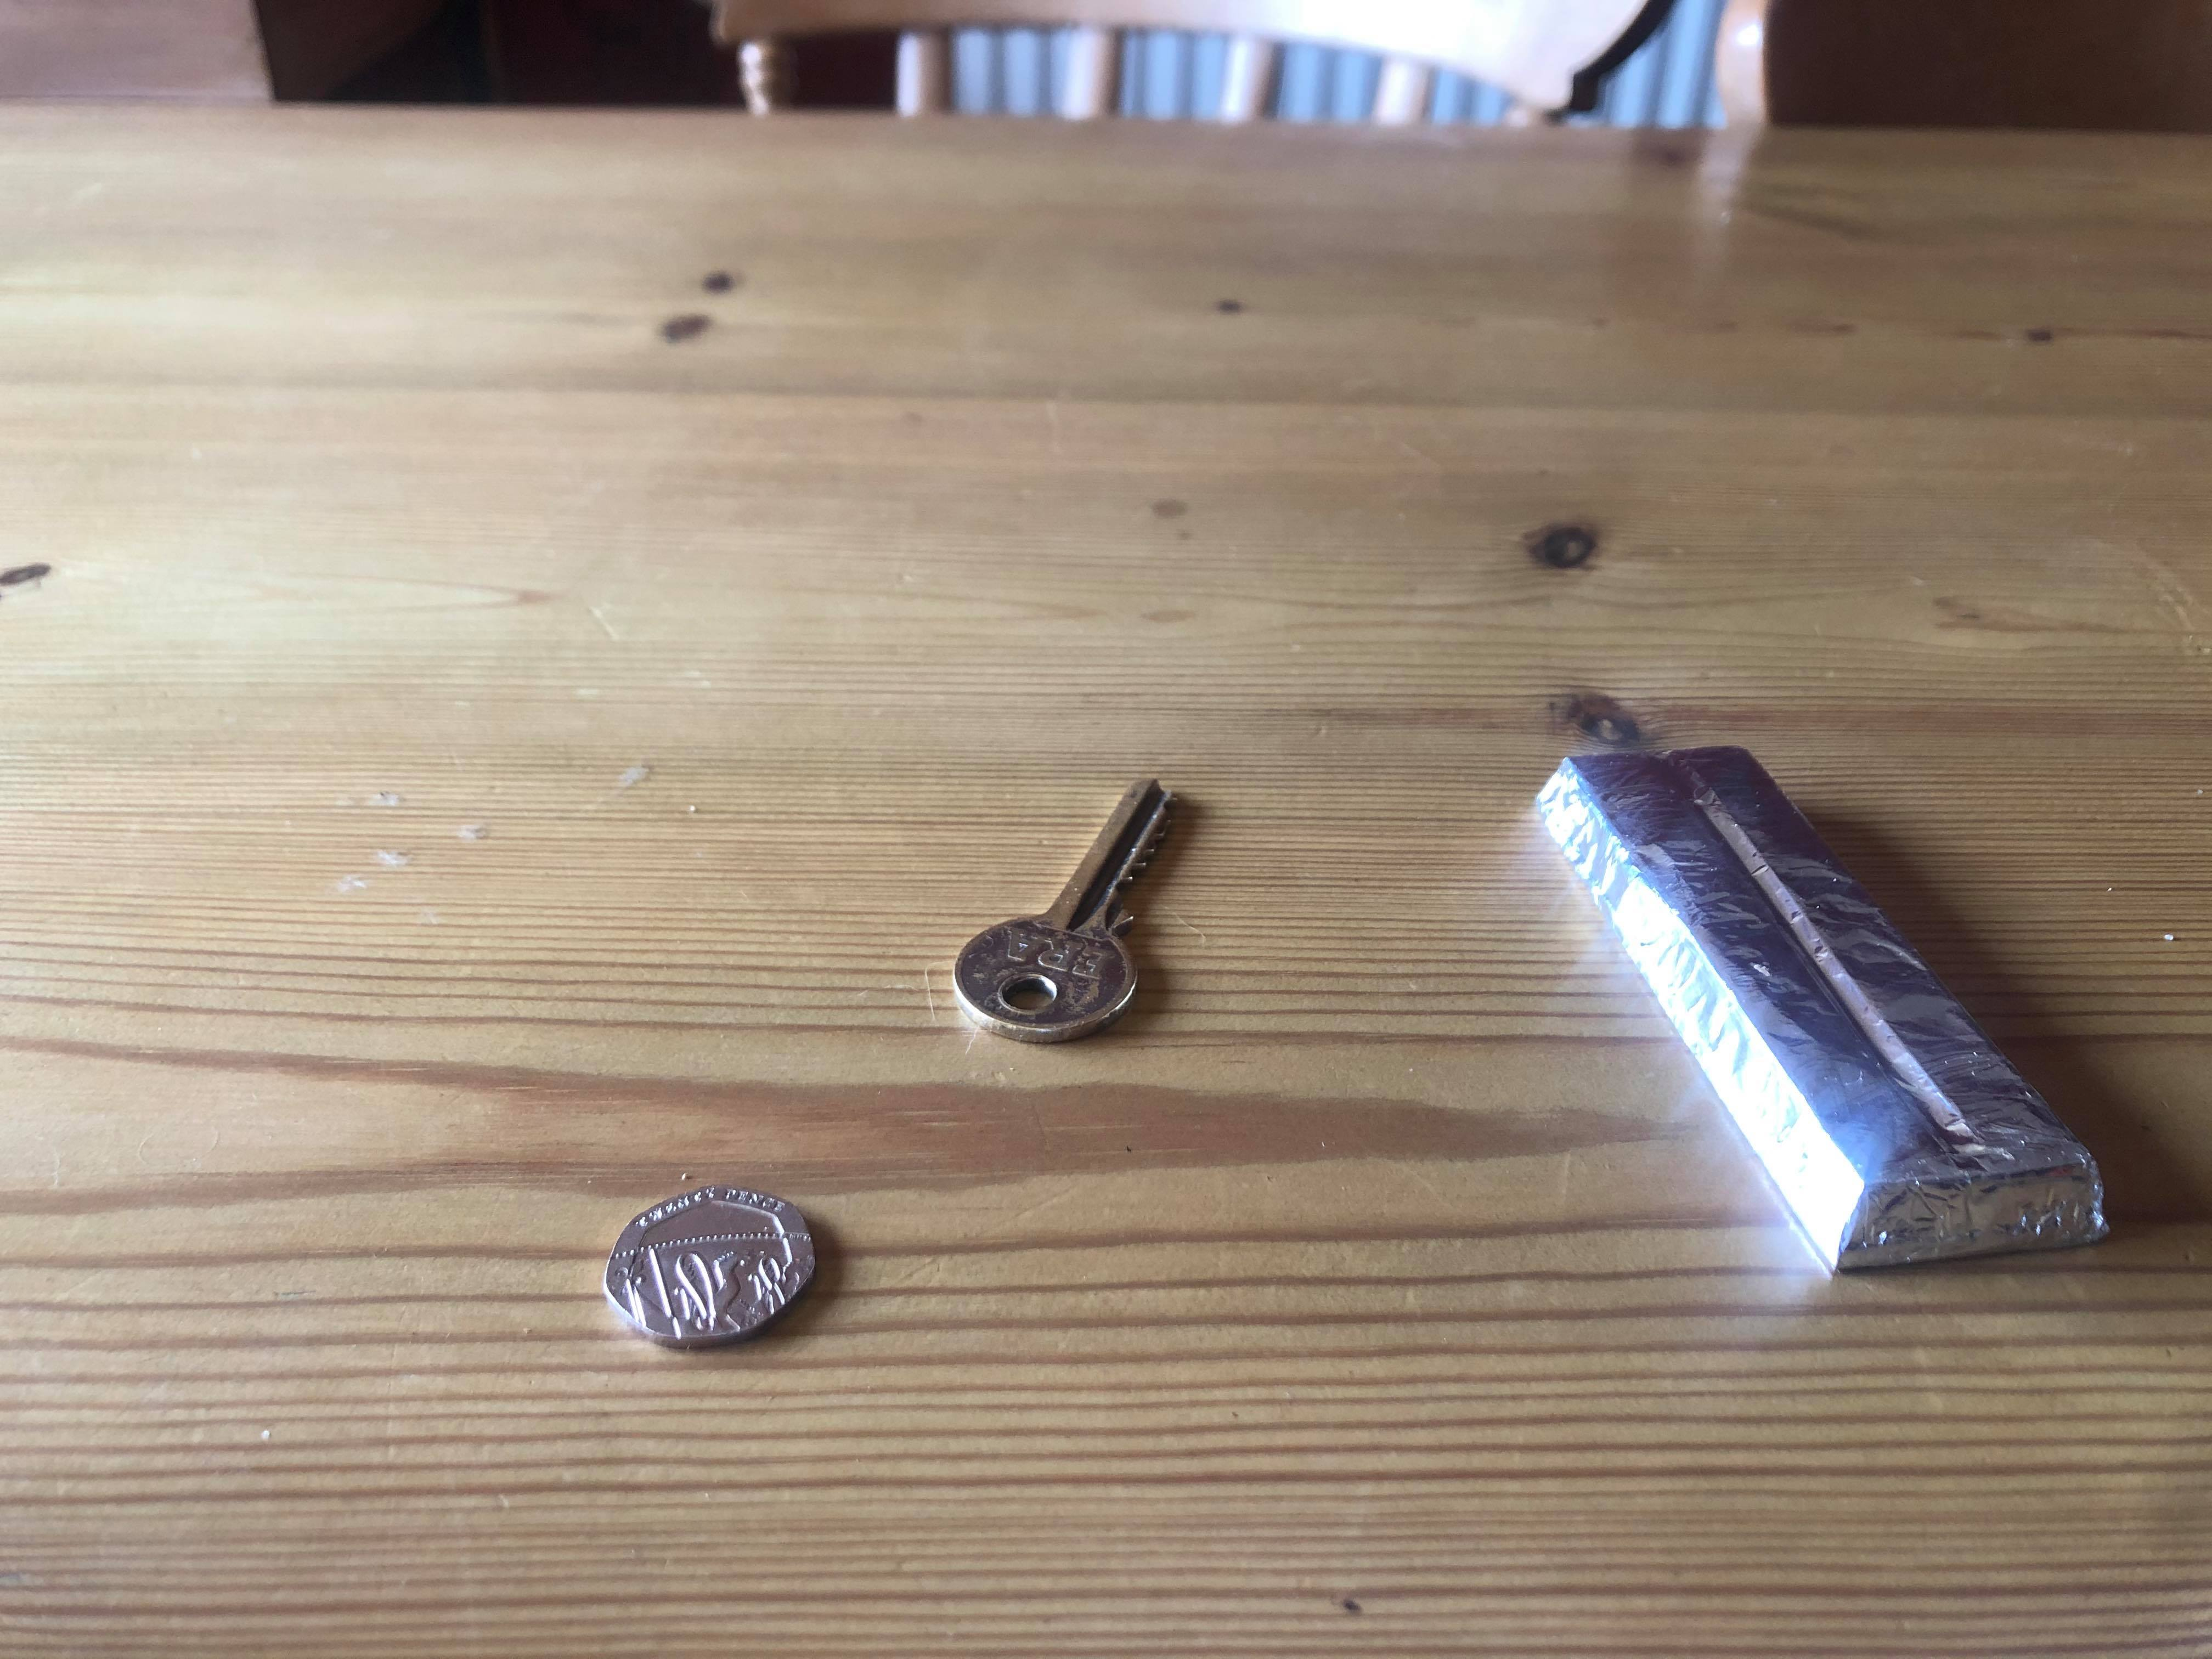Coin: (597, 1180, 824, 1352)
Foil: (1521, 735, 2127, 1276)
Key: (949, 765, 1193, 1049)
